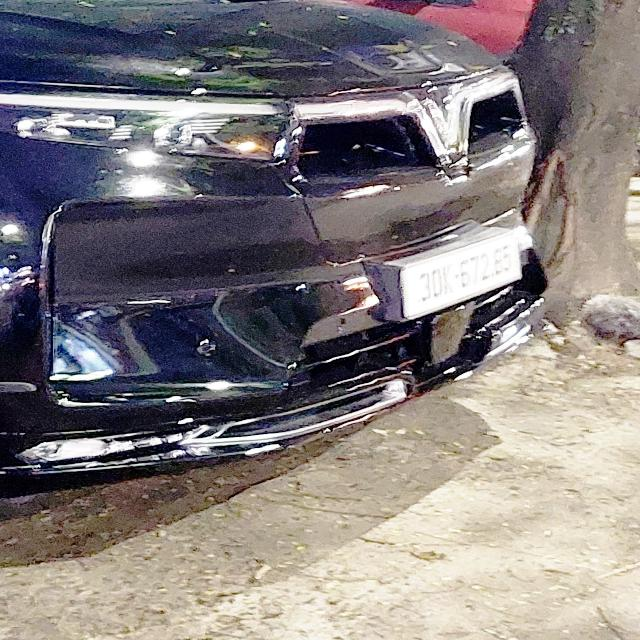license_plate: (394, 224, 533, 327)
